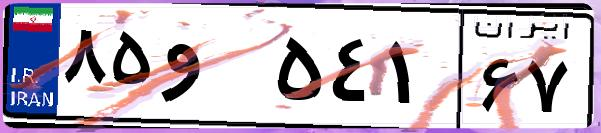1: (385, 28, 445, 110)
4: (330, 28, 385, 110)
5: (270, 28, 330, 110), (110, 28, 158, 98)
6: (475, 38, 525, 113)
7: (525, 38, 570, 115)
8: (57, 26, 110, 100)
و: (158, 20, 270, 120)
